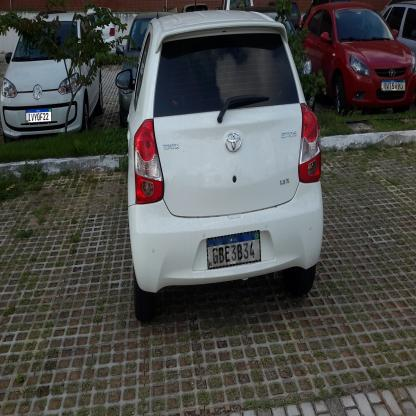PlacaM: (206, 230, 261, 270), (26, 108, 52, 124), (381, 79, 406, 91)
